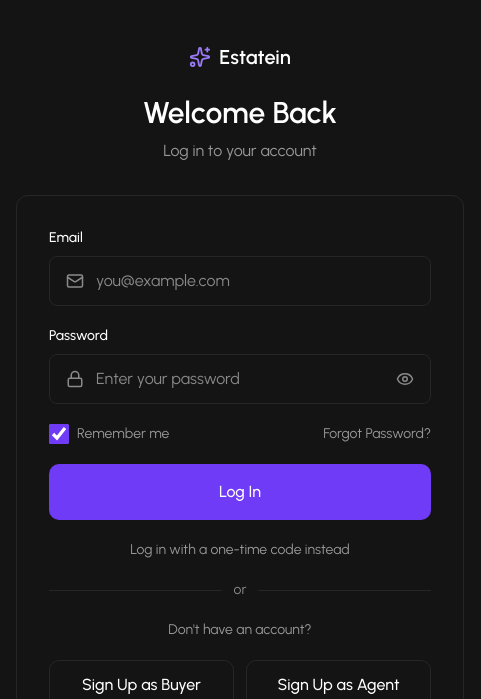
Scenario: Login page › shows a validation error for an invalid email
In the field with placeholder "you@example.com": (255,281) 96,269 -> 414,293, type "not-an-email"
(page scrolled)
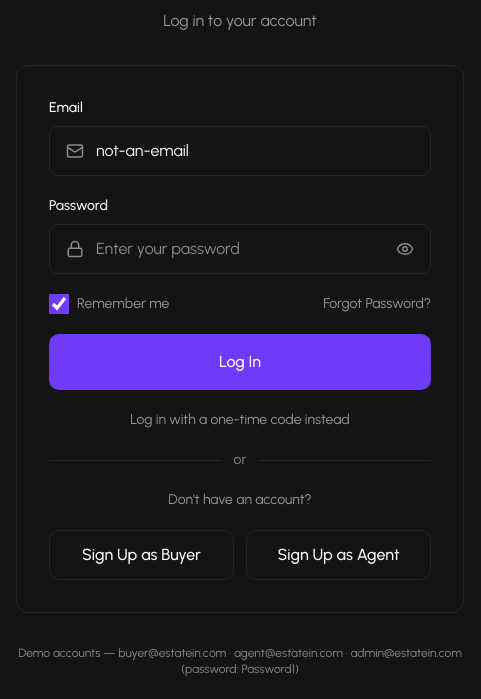
Submit the form with placeholder "you@example.com"
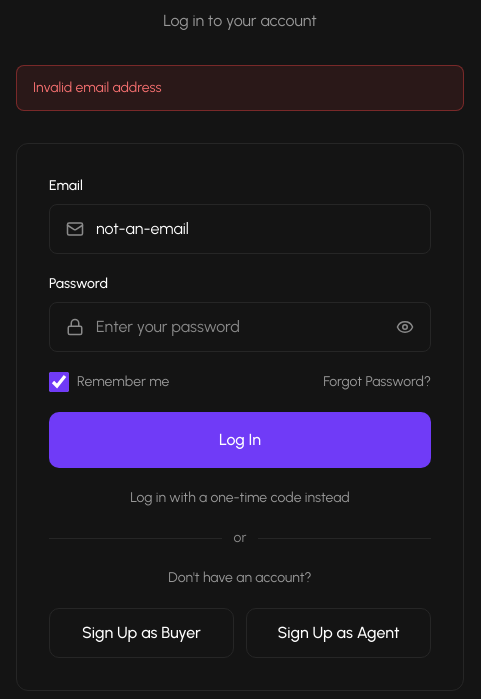
Check: the text "Invalid email address" is shown, box 16,65 -> 464,111
